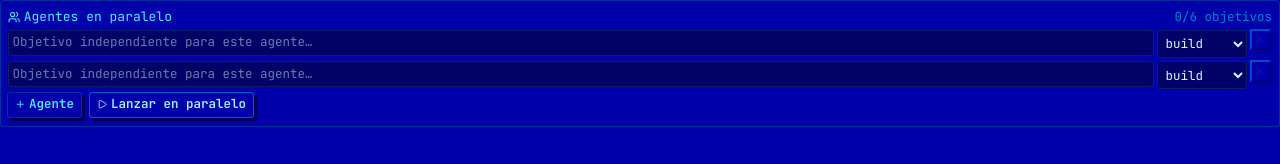
ParallelLaunch › si el servidor no registra la sesión padre, lo dice y no lanza nada
The width and height of the screenshot is (1280, 164).
Step 1. Type "uno" into the text box with test id "parallel-goal-0" → (581, 43), box [8,30,1154,56]
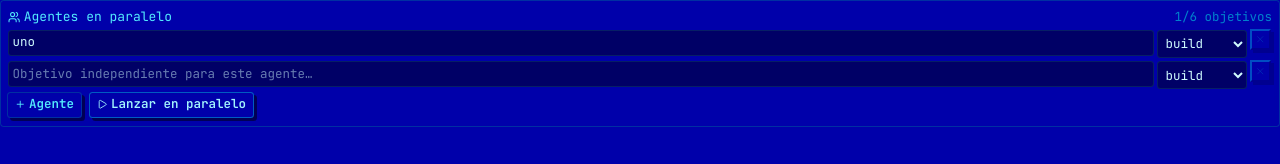
Step 2. Type "dos" into the text box with test id "parallel-goal-1" → (581, 74), box [8,61,1154,87]
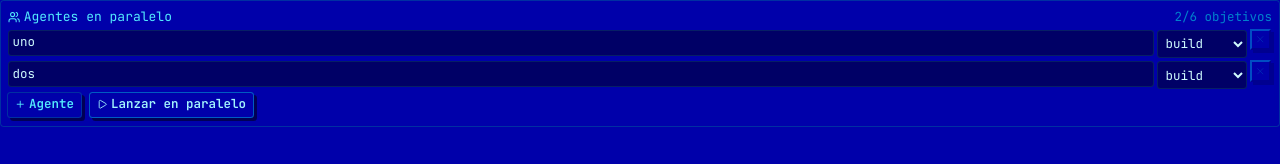
Step 3. Click the button with test id "parallel-run" → (172, 105), box [89,92,254,118]
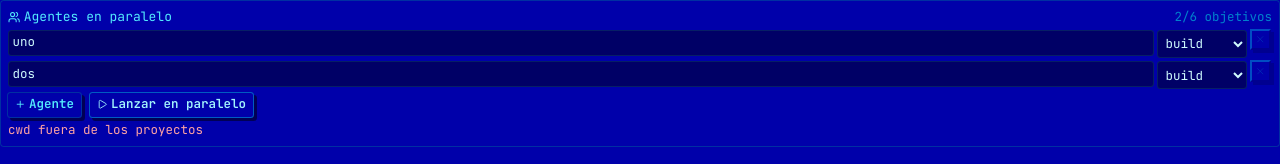
Expected: the message with test id "parallel-error" shows "cwd fuera", [8,121,203,138]
